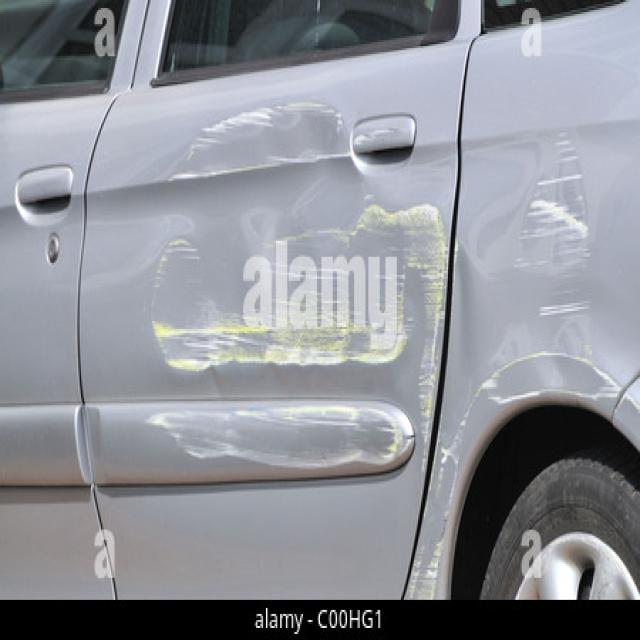dent: (132, 84, 612, 491)
scratch: (129, 80, 640, 599)
